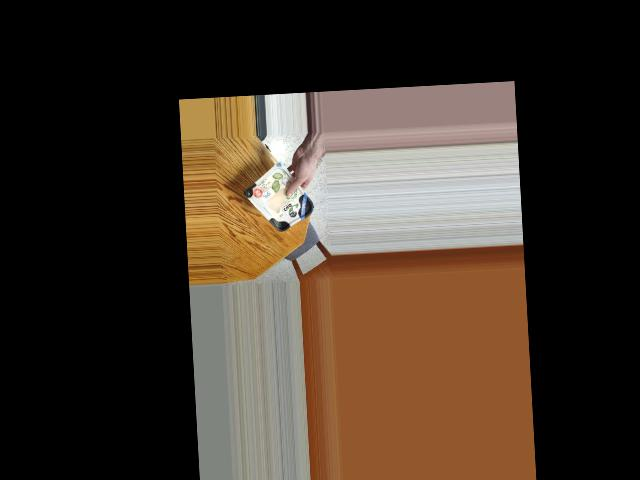cheese: (248, 171, 316, 233)
